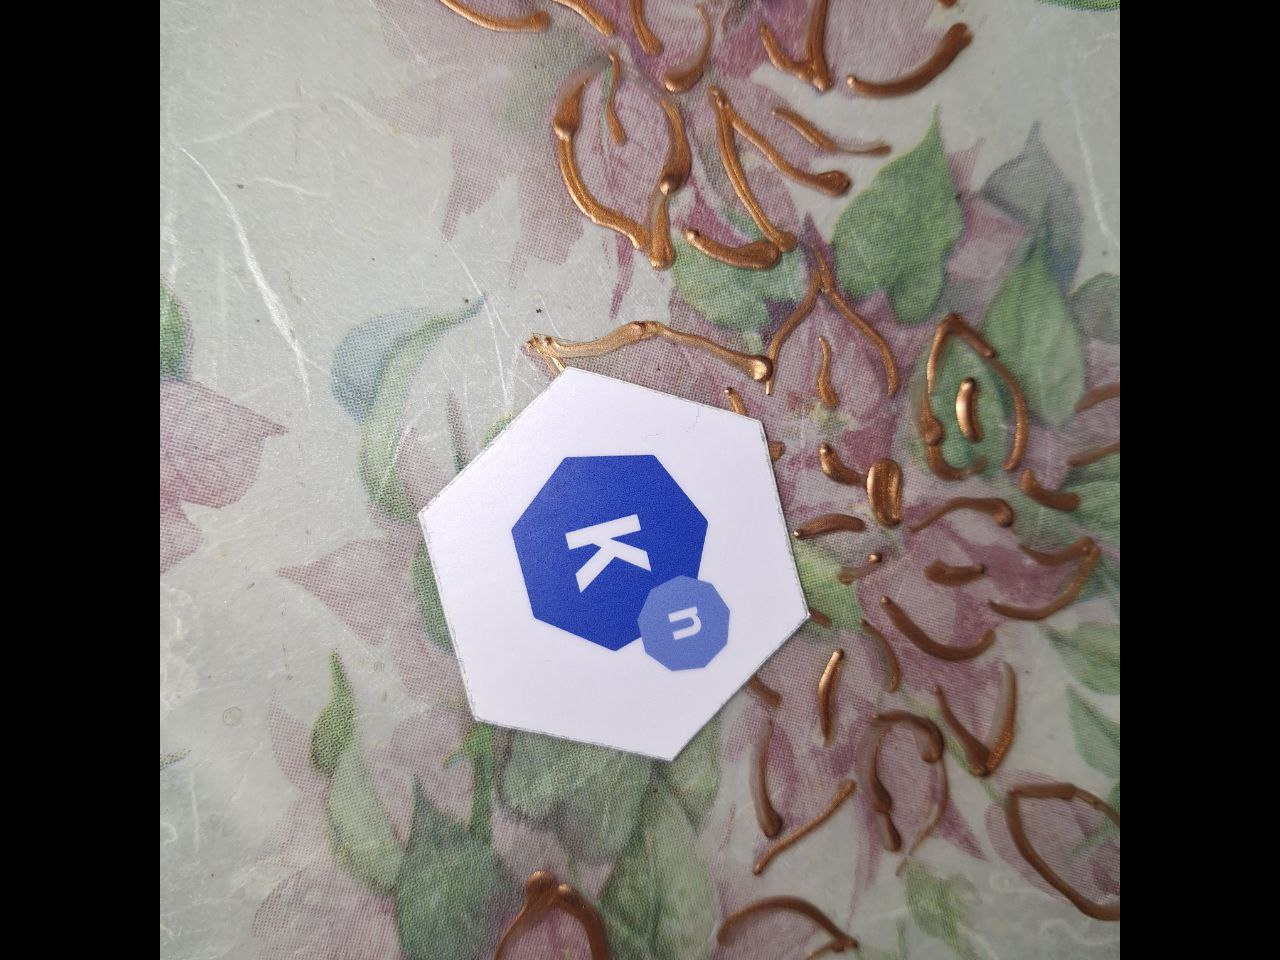knative: (511, 451, 732, 677)
